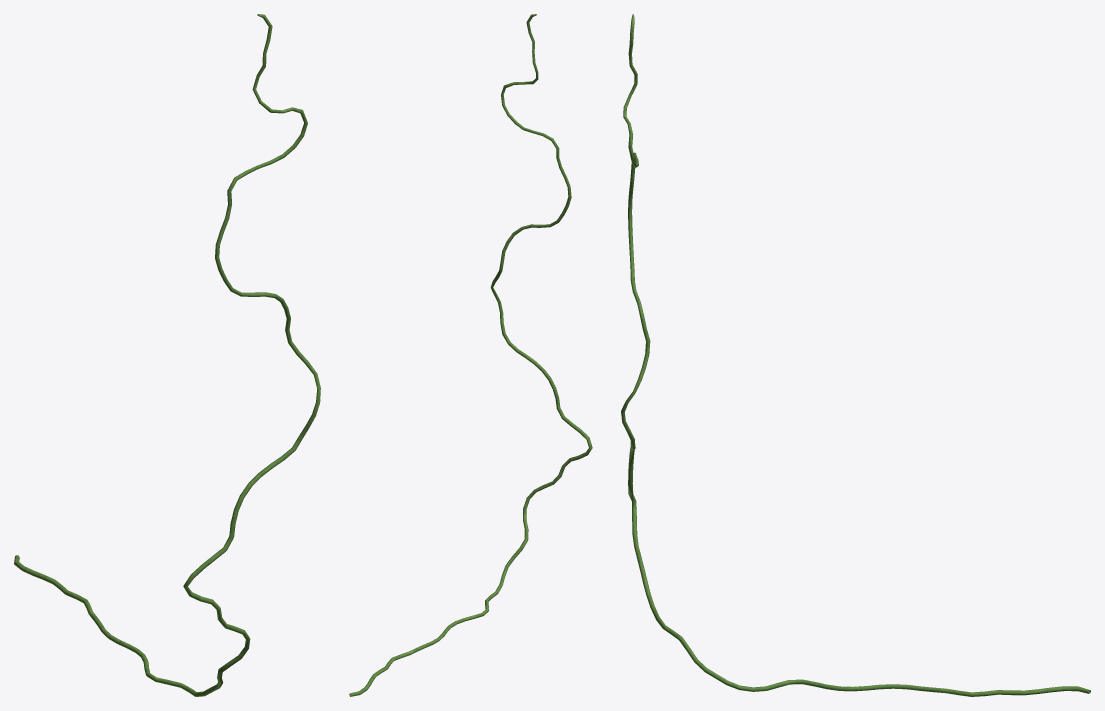
The model's file is SM_ENV_KNFRST_WireMeshIvy_C.FBX.
3 views of the same model, side by side, from view 1: azimuth 30°, elevation 25°; view 2: azimuth 150°, elevation 25°; view 3: azimuth 270°, elevation 25° (orthographic). The views are drawn at different scales.
Visible parts, largest first — view 1: SM_ENV_KNFRST_WireMeshIvy_C; view 2: SM_ENV_KNFRST_WireMeshIvy_C; view 3: SM_ENV_KNFRST_WireMeshIvy_C.
Boxes of the visible parts, box(x1,y1,x2,y2) form: SM_ENV_KNFRST_WireMeshIvy_C: box(14, 14, 320, 696); SM_ENV_KNFRST_WireMeshIvy_C: box(349, 14, 592, 696); SM_ENV_KNFRST_WireMeshIvy_C: box(621, 14, 1090, 696).
Bounding box in the file's own units: 821 × 4241 × 2660.
